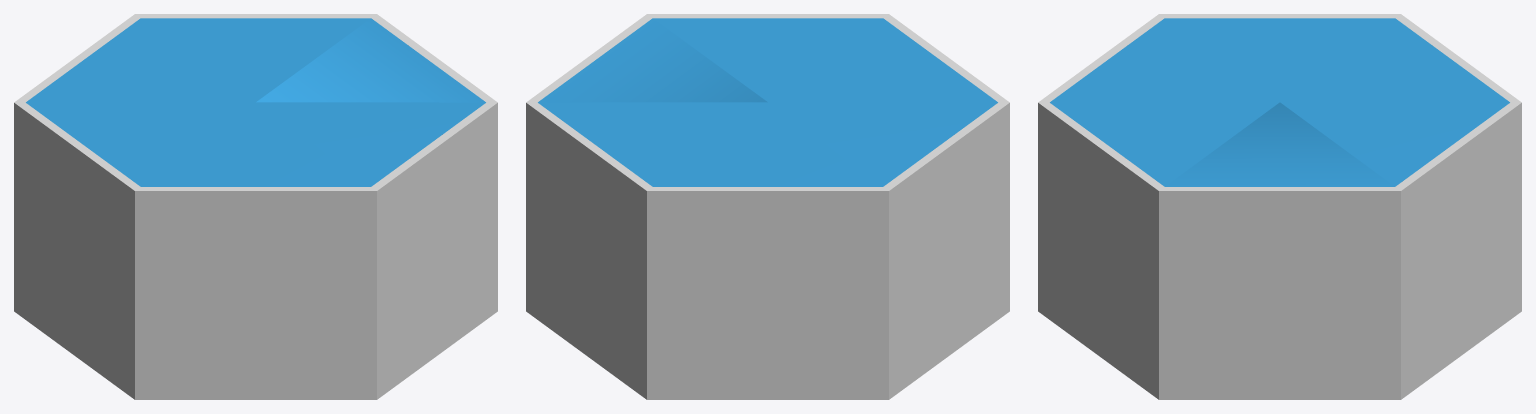
Rendered from Hexagon_Border2.fbx.
3 views of the same model, side by side, from view 1: azimuth 30°, elevation 25°; view 2: azimuth 150°, elevation 25°; view 3: azimuth 270°, elevation 25° (orthographic).
Parts seen in each view (by area): view 1: Cylinder.003; view 2: Cylinder.003; view 3: Cylinder.003.
Part boxes in pixels (x1,y1,x2,y2): Cylinder.003: [14, 14, 497, 399]; Cylinder.003: [526, 14, 1009, 399]; Cylinder.003: [1038, 14, 1521, 399].
Bounding box in the file's own units: 1.82 × 1 × 2.1.
